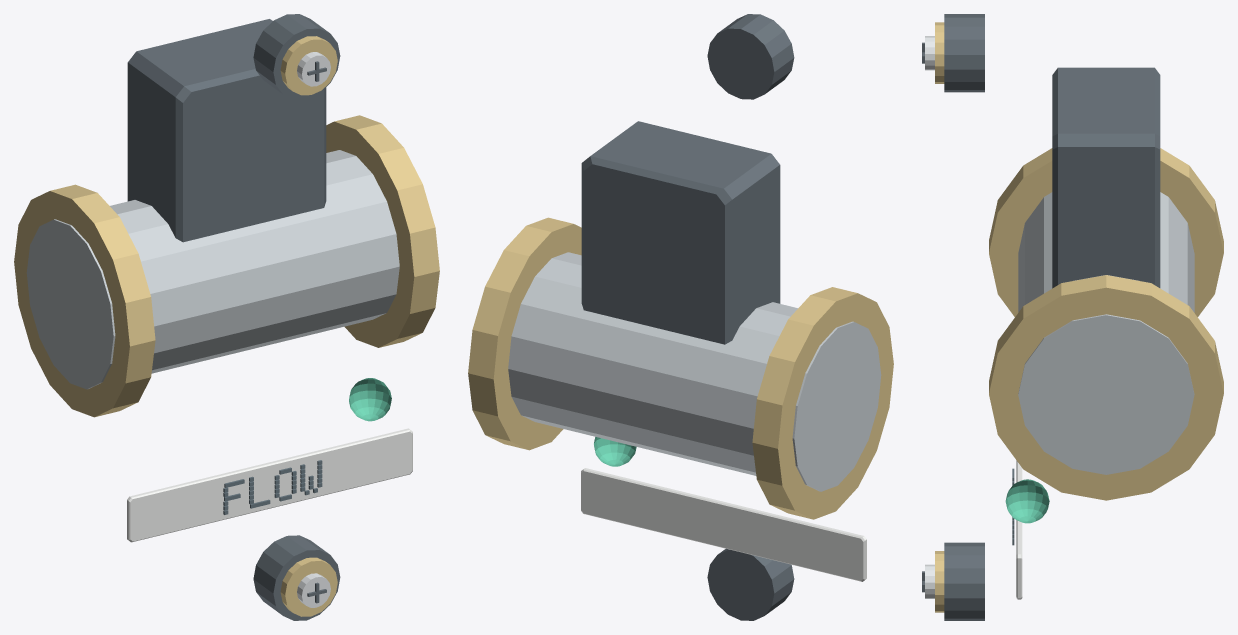
The model's file is flowSwitch.glb.
3 renders of one model, left to right at view 1: azimuth 30°, elevation 25°; view 2: azimuth 150°, elevation 25°; view 3: azimuth 270°, elevation 25°, orthographic.
Visible parts, largest first — view 1: flowSwitch-preview; view 2: flowSwitch-preview; view 3: flowSwitch-preview.
Part boxes in pixels (left/top/right/bottom): flowSwitch-preview: left=14, top=14, right=439, bottom=620; flowSwitch-preview: left=468, top=14, right=893, bottom=620; flowSwitch-preview: left=922, top=14, right=1223, bottom=620.
Bounding box in the file's own units: 1.47 × 2.65 × 1.21.
